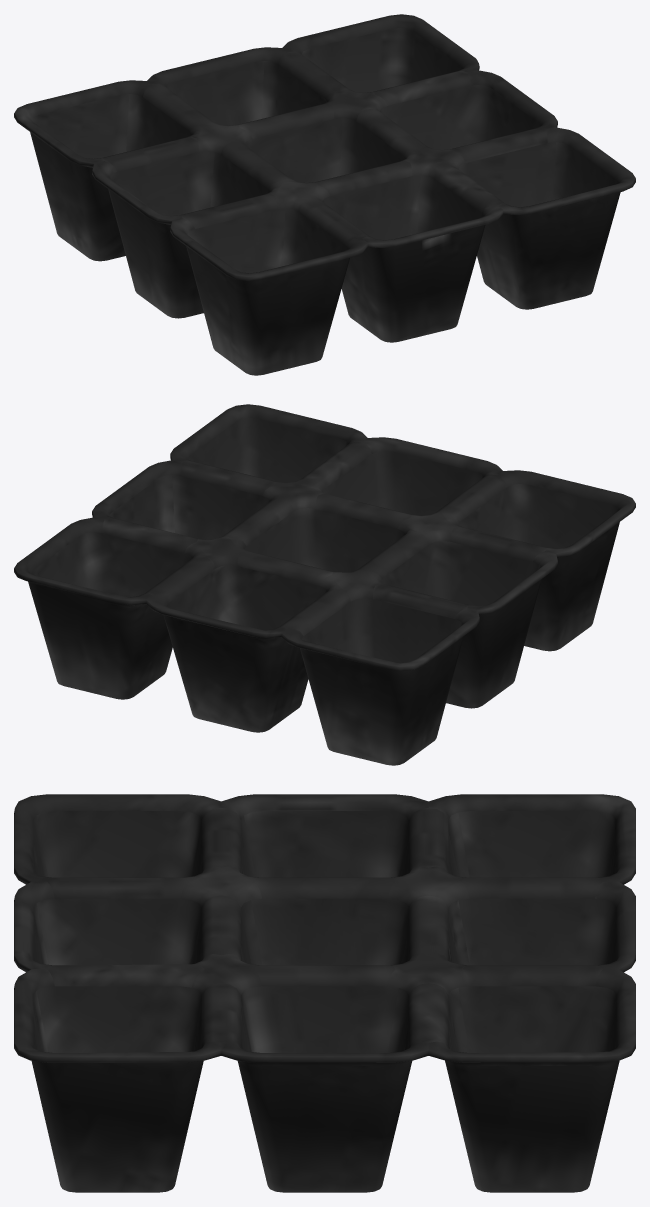
The model's file is tray-seeding.1da63d6f.glb.
3 views of the same model, one above another, from view 1: azimuth 30°, elevation 25°; view 2: azimuth 150°, elevation 25°; view 3: azimuth 270°, elevation 25° (orthographic). The views are drawn at different scales.
Parts seen in each view (by area): view 1: model; view 2: model; view 3: model.
Part boxes in pixels (bbox=[...]): model: bbox=[14, 14, 635, 375]; model: bbox=[14, 404, 635, 765]; model: bbox=[14, 794, 635, 1192].
Size of the model in its own units: 0.2202 by 0.0608 by 0.2202.
1 material, 1 textured.
